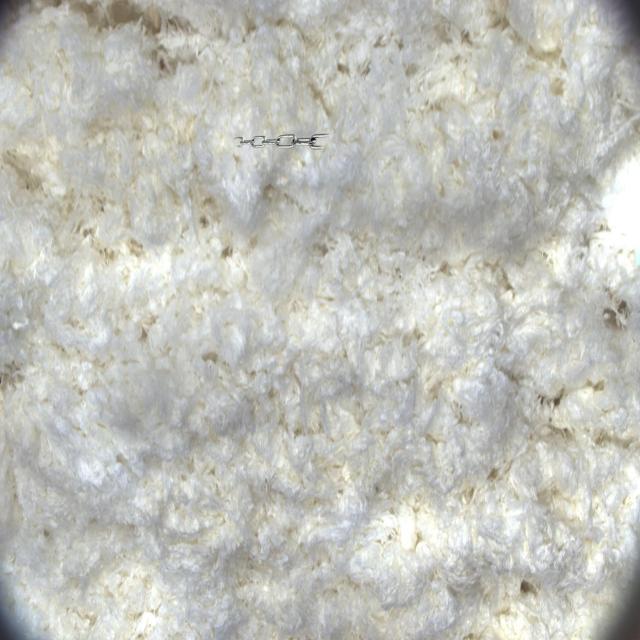dust: (226, 103, 338, 199)
